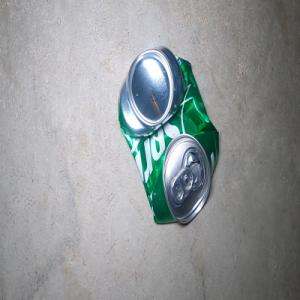SodaCan: (117, 45, 219, 224)
